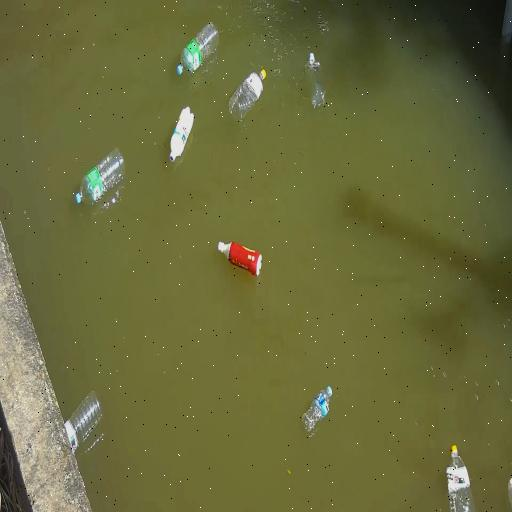plastic: (75, 148, 123, 203), (64, 391, 101, 452), (176, 22, 217, 74), (228, 70, 265, 121), (446, 445, 474, 511), (301, 386, 331, 436), (217, 242, 261, 276), (169, 107, 193, 161), (305, 53, 324, 108), (508, 478, 511, 507)
